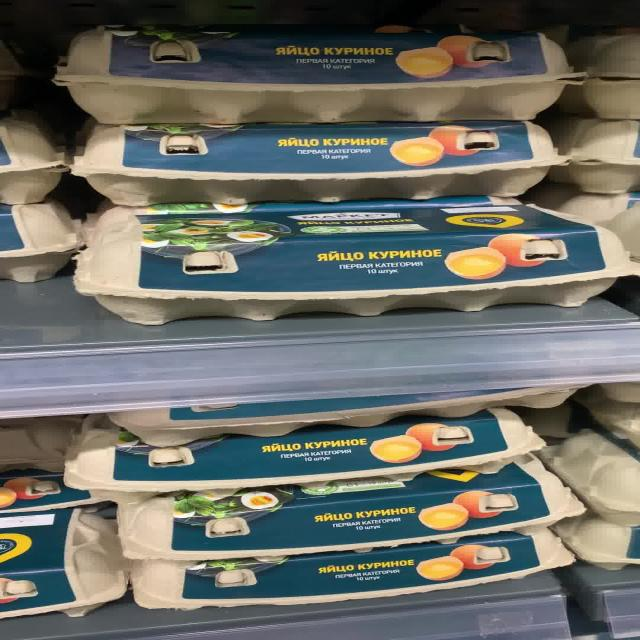egg box: (68, 201, 634, 322), (59, 29, 586, 120), (62, 408, 544, 506), (121, 458, 582, 560), (76, 121, 562, 205), (133, 526, 568, 602)
